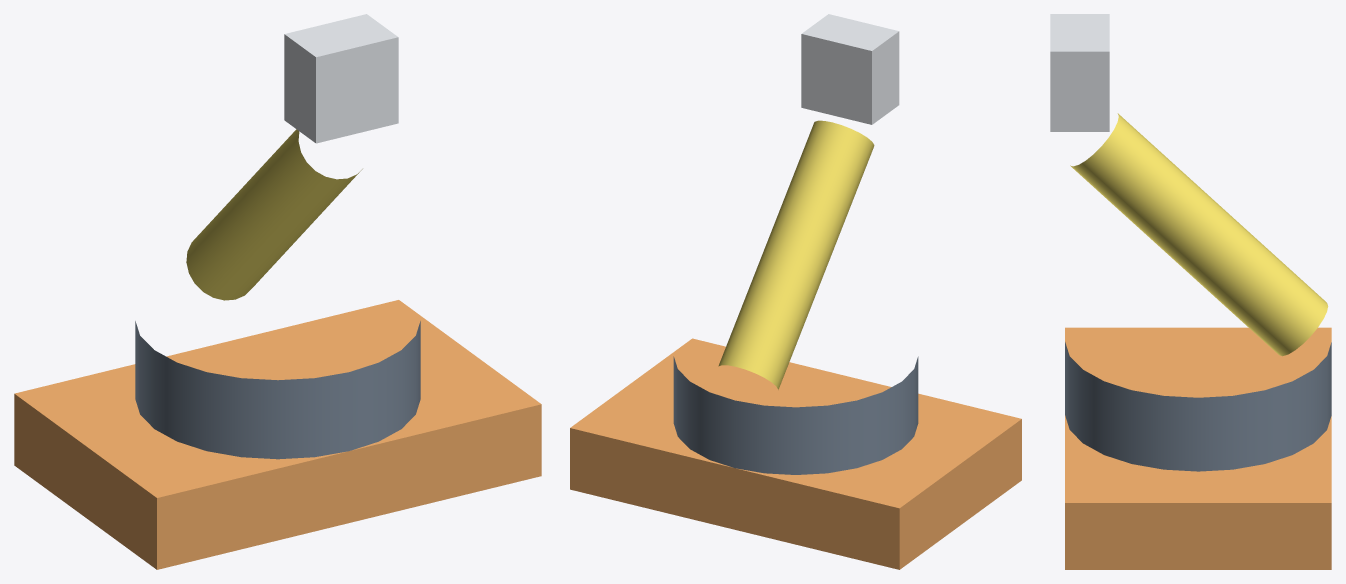
The model's file is industrial_robotics_fms.glb.
The picture shows the model from 3 angles, left to right: view 1: azimuth 30°, elevation 25°; view 2: azimuth 150°, elevation 25°; view 3: azimuth 270°, elevation 25°; orthographic projection. The views are drawn at different scales.
Visible parts, largest first — view 1: AutomatedGuidedVehicleAGVPlatform, ArticulatedRobotBasePedestal, RobotForearmArticulatedLink, TwoJawPneumaticGripper; view 2: AutomatedGuidedVehicleAGVPlatform, RobotForearmArticulatedLink, ArticulatedRobotBasePedestal, TwoJawPneumaticGripper; view 3: AutomatedGuidedVehicleAGVPlatform, RobotForearmArticulatedLink, ArticulatedRobotBasePedestal, TwoJawPneumaticGripper.
Boxes of the visible parts, left/top/right/bottom form: AutomatedGuidedVehicleAGVPlatform: left=14, top=300, right=541, bottom=569; ArticulatedRobotBasePedestal: left=135, top=321, right=420, bottom=459; RobotForearmArticulatedLink: left=186, top=129, right=362, bottom=300; TwoJawPneumaticGripper: left=284, top=14, right=398, bottom=143; AutomatedGuidedVehicleAGVPlatform: left=570, top=338, right=1021, bottom=569; RobotForearmArticulatedLink: left=718, top=120, right=874, bottom=389; ArticulatedRobotBasePedestal: left=673, top=356, right=918, bottom=474; TwoJawPneumaticGripper: left=801, top=14, right=899, bottom=124; AutomatedGuidedVehicleAGVPlatform: left=1065, top=327, right=1331, bottom=569; RobotForearmArticulatedLink: left=1070, top=113, right=1328, bottom=356; ArticulatedRobotBasePedestal: left=1065, top=342, right=1331, bottom=471; TwoJawPneumaticGripper: left=1050, top=14, right=1109, bottom=131.
Bounding box in the file's own units: 1.4 × 1.68 × 0.95.
